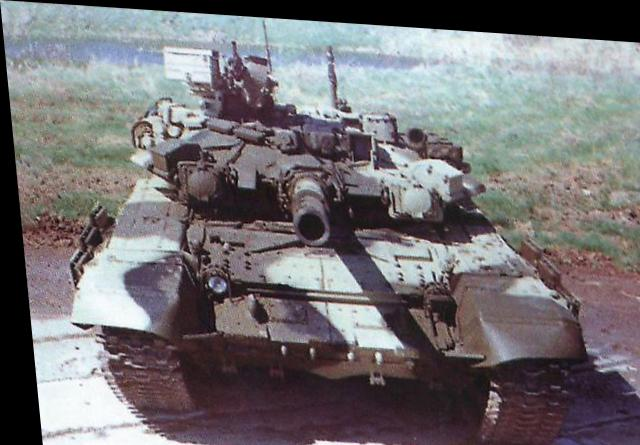tank: (62, 70, 558, 436)
